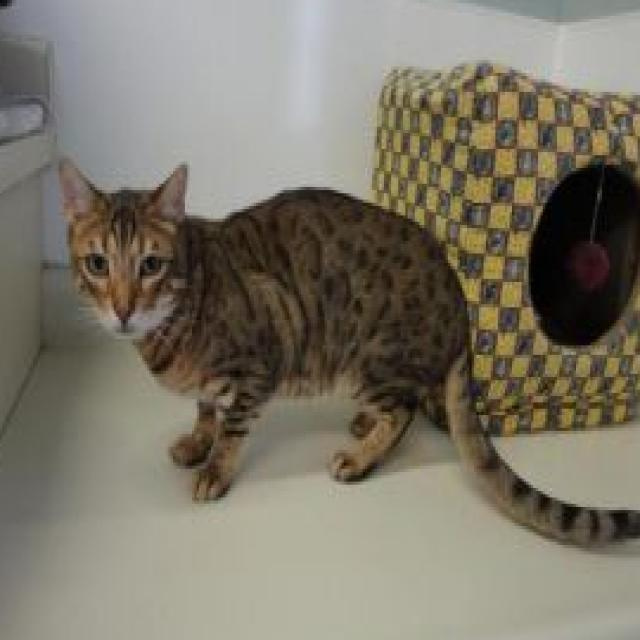Bengal: (52, 145, 640, 558)
